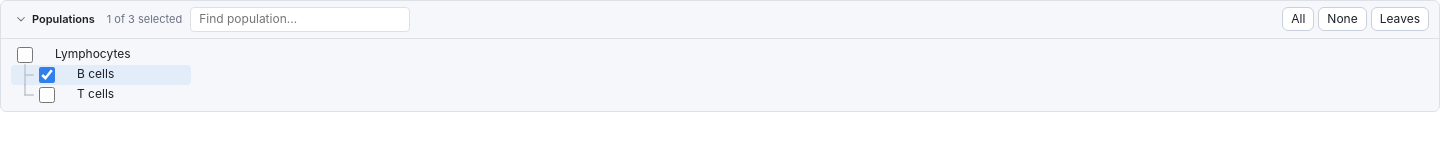
Test: StrategyPopulationPicker › folds away to its heading, count and actions, and back
expect the number of labels with class "gl-strategy-pop-row" is 3: met, box top-left (17, 46), bottom-right (130, 63); top-left (11, 65), bottom-right (191, 85); top-left (17, 85), bottom-right (114, 105)
Click the button with class "gl-picker-collapse-toggle" at (55, 19), box top-left (11, 10), bottom-right (99, 29)
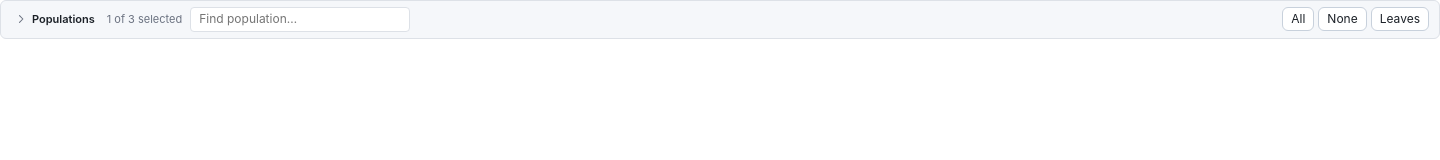
expect the text with class "gl-picker-summary" reads "1 of 3 selected": met, box top-left (107, 12), bottom-right (182, 26)
expect the button with class "gl-picker-collapse-toggle" is collapsed: met
expect the element with class "gl-strategy-pops-body" is gone: met
Click the button "Populations" at (55, 19), box top-left (11, 10), bottom-right (99, 29)
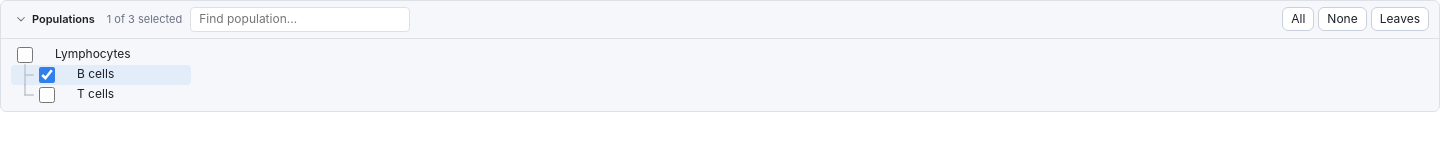
expect the number of labels with class "gl-strategy-pop-row" is 3: met, box top-left (17, 46), bottom-right (130, 63); top-left (11, 65), bottom-right (191, 85); top-left (17, 85), bottom-right (114, 105)
